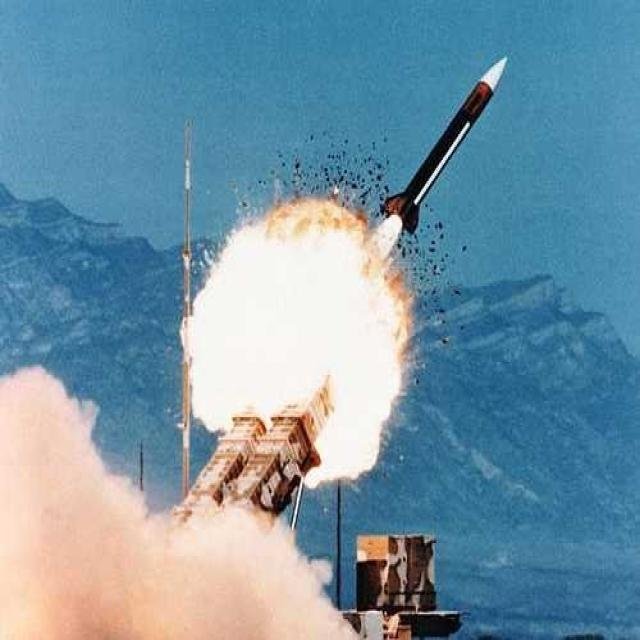missile: (384, 51, 510, 228)
